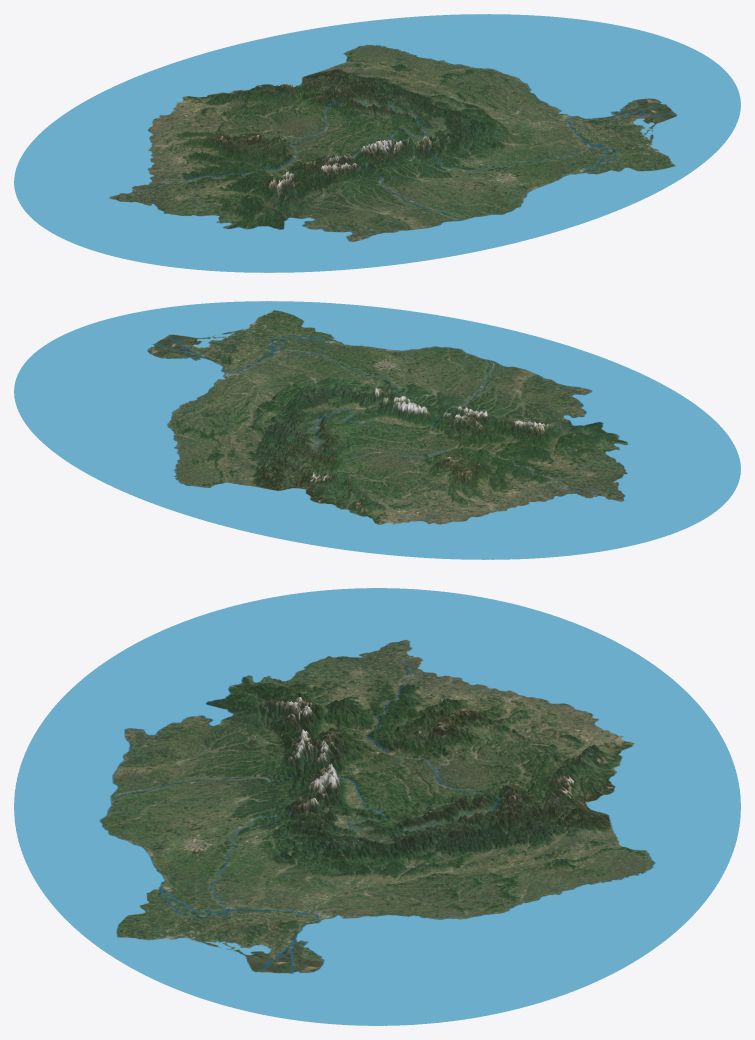
The model's file is ROU-previa-terrain.glb.
3 renders of one model, top to bottom at view 1: azimuth 30°, elevation 25°; view 2: azimuth 150°, elevation 25°; view 3: azimuth 270°, elevation 25°, orthographic. The views are drawn at different scales.
Visible parts, largest first — view 1: Roménia; view 2: Roménia; view 3: Roménia.
Boxes of the visible parts, left/top/right/bottom form: Roménia: left=14, top=14, right=740, bottom=272; Roménia: left=14, top=301, right=740, bottom=559; Roménia: left=14, top=588, right=740, bottom=1025.
Bounding box in the file's own units: 2.31 × 0.0639 × 1.62.
Materials: 1 (1 with a texture image).
